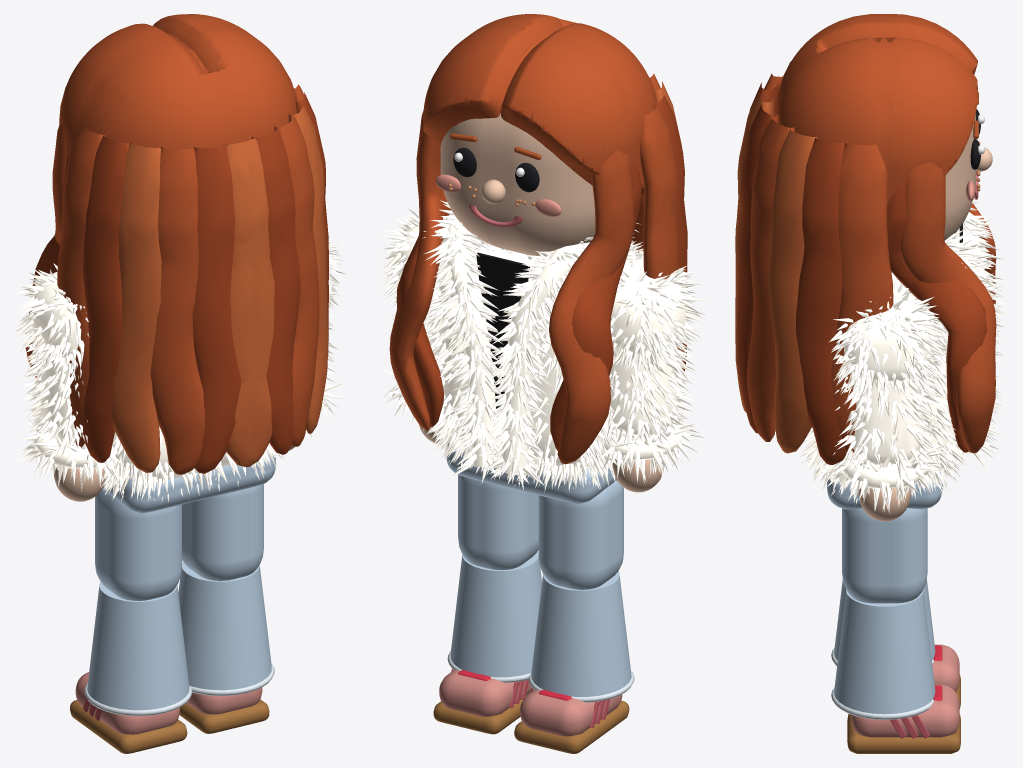
Rendered from liina_pakattu.glb.
The picture shows the model from 3 angles, left to right: view 1: azimuth 30°, elevation 25°; view 2: azimuth 150°, elevation 25°; view 3: azimuth 270°, elevation 25°; orthographic projection.
Visible parts, largest first — view 1: vartalo_hiukset (×3), jalka_oikea_reisi (×2), jalka_vasen_reisi (×2), kasi_oikea_olkavarsi (×3), vartalo_turkki (×3), jalka_oikea_kenka (×2), vartalo_paita, jalka_vasen_kenka (×2), kasi_oikea_kammen, kasi_vasen_olkavarsi; view 2: vartalo_hiukset (×2), vartalo_turkki (×3), kasi_oikea_olkavarsi (×3), jalka_oikea_reisi, jalka_vasen_reisi, vartalo_paa, vartalo_paita (×2), jalka_oikea_kenka (×2), jalka_vasen_kenka (×2), kasi_vasen_olkavarsi (×2), vartalo_kasvot (×2), kasi_oikea_kammen; view 3: vartalo_hiukset (×3), kasi_vasen_olkavarsi (×3), jalka_vasen_reisi (×2), vartalo_turkki (×3), jalka_vasen_kenka (×3), vartalo_paa, vartalo_paita, kasi_vasen_kammen, jalka_oikea_kenka, jalka_oikea_reisi.
Part boxes in pixels (x1=…): vartalo_hiukset (×3): x1=25, y1=14, x2=328, y2=474; jalka_oikea_reisi (×2): x1=84, y1=489, x2=192, y2=715; jalka_vasen_reisi (×2): x1=178, y1=484, x2=274, y2=695; kasi_oikea_olkavarsi (×3): x1=15, y1=263, x2=121, y2=491; vartalo_turkki (×3): x1=101, y1=426, x2=288, y2=503; jalka_oikea_kenka (×2): x1=70, y1=672, x2=187, y2=753; vartalo_paita: x1=102, y1=454, x2=275, y2=513; jalka_vasen_kenka (×2): x1=179, y1=687, x2=269, y2=733; kasi_oikea_kammen: x1=54, y1=467, x2=105, y2=501; kasi_vasen_olkavarsi: x1=309, y1=221, x2=346, y2=434; vartalo_hiukset (×2): x1=389, y1=14, x2=687, y2=464; vartalo_turkki (×3): x1=422, y1=200, x2=643, y2=492; kasi_oikea_olkavarsi (×3): x1=600, y1=249, x2=705, y2=483; jalka_oikea_reisi: x1=531, y1=480, x2=631, y2=696; jalka_vasen_reisi: x1=450, y1=475, x2=541, y2=677; vartalo_paa: x1=440, y1=113, x2=595, y2=256; vartalo_paita (×2): x1=446, y1=252, x2=616, y2=503; jalka_oikea_kenka (×2): x1=514, y1=689, x2=629, y2=753; jalka_vasen_kenka (×2): x1=433, y1=670, x2=532, y2=734; kasi_vasen_olkavarsi (×2): x1=377, y1=202, x2=434, y2=430; vartalo_kasvot (×2): x1=435, y1=147, x2=561, y2=216; kasi_oikea_kammen: x1=612, y1=459, x2=664, y2=492; vartalo_hiukset (×3): x1=735, y1=14, x2=996, y2=464; kasi_vasen_olkavarsi (×3): x1=825, y1=278, x2=949, y2=513; jalka_vasen_reisi (×2): x1=831, y1=508, x2=935, y2=719; vartalo_turkki (×3): x1=799, y1=200, x2=1007, y2=503; jalka_vasen_kenka (×3): x1=847, y1=684, x2=960, y2=753; vartalo_paa: x1=944, y1=113, x2=976, y2=240; vartalo_paita: x1=826, y1=471, x2=942, y2=509; kasi_vasen_kammen: x1=858, y1=487, x2=910, y2=521; jalka_oikea_kenka: x1=932, y1=644, x2=959, y2=691; jalka_oikea_reisi: x1=834, y1=579, x2=935, y2=660.
Size of the model in its own units: 1.29 by 2.75 by 0.987.
